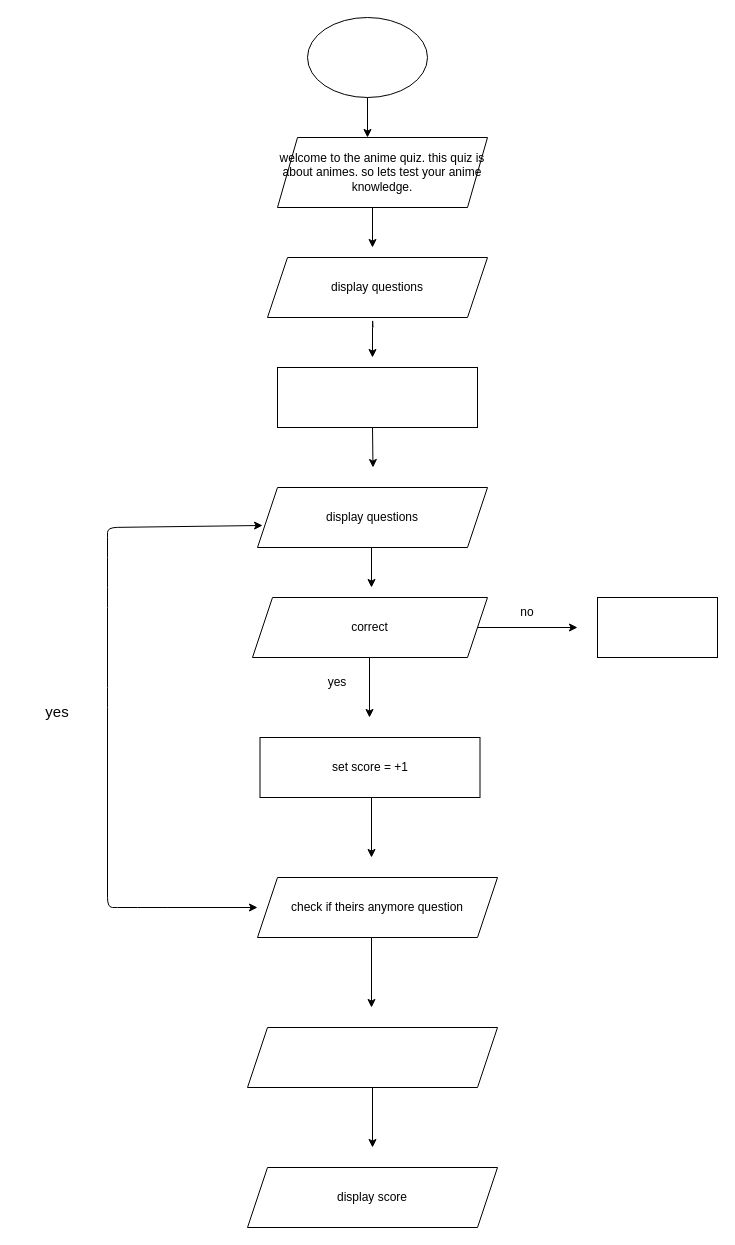
This 735x1245 diagram has some shape labels left out. Here are the shapes that lost their labels. From the top down, the centre of each, then its label:
point (367, 57): start
point (377, 397): set score = 0
point (657, 627): set score = +0
point (372, 1057): calculate all the points
